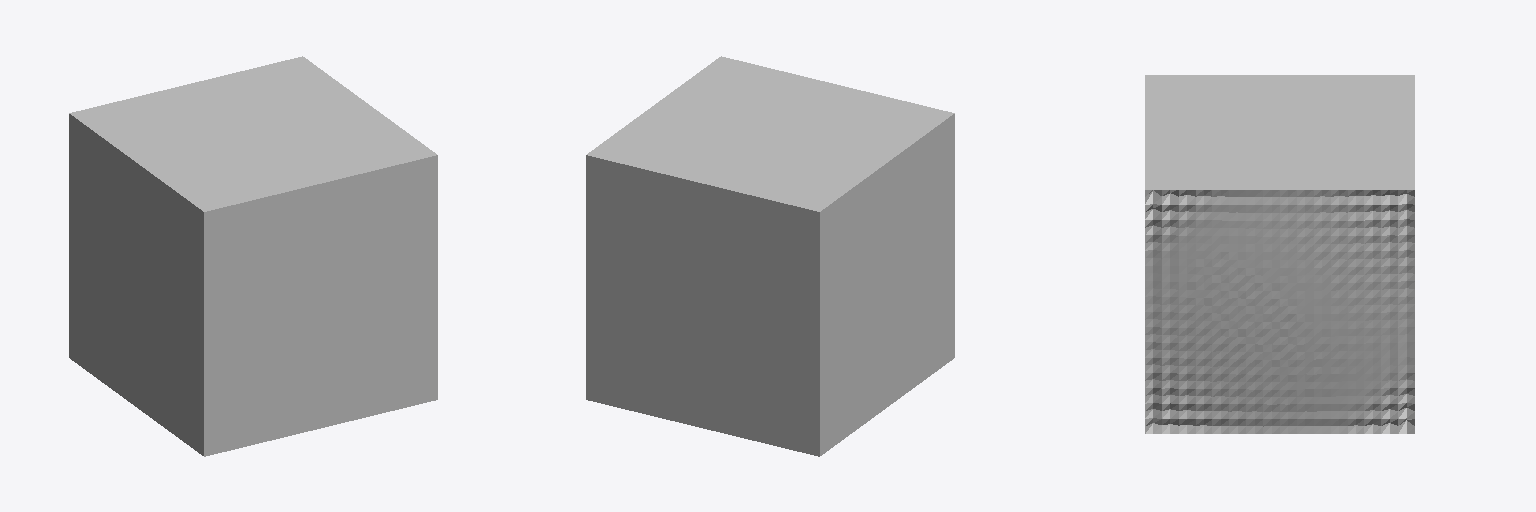
The model's file is optimize_result_4_2.obj.
The picture shows the model from 3 angles: view 1: azimuth 30°, elevation 25°; view 2: azimuth 150°, elevation 25°; view 3: azimuth 270°, elevation 25°; orthographic projection.
Parts seen in each view (by area): view 1: Cube_Cube.001; view 2: Cube_Cube.001; view 3: Cube_Cube.001.
Boxes of the visible parts, <box> form: Cube_Cube.001: <box>69,56,437,456</box>; Cube_Cube.001: <box>586,56,954,456</box>; Cube_Cube.001: <box>1145,75,1414,433</box>.
Bounding box in the file's own units: 10.2 × 10 × 10.